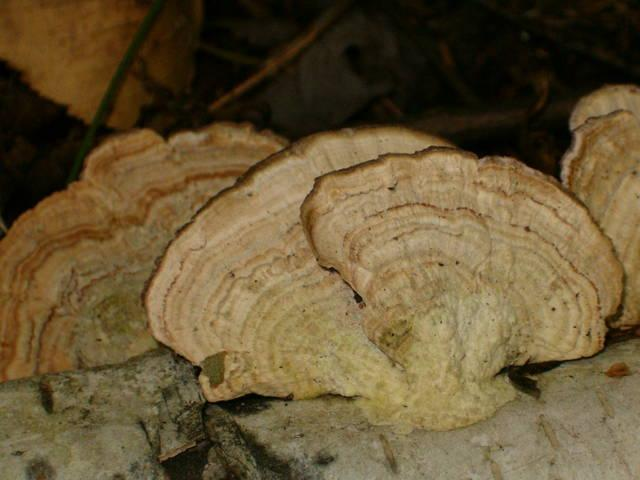poisonous_mushroom: (141, 122, 625, 433)
